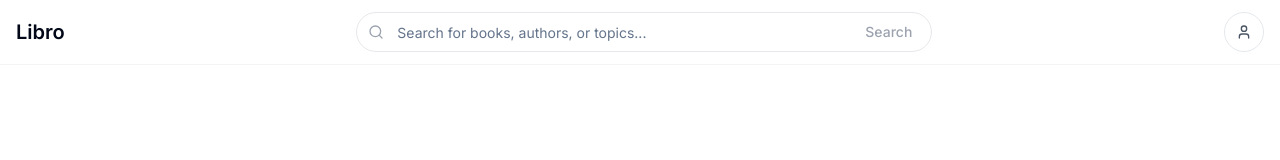
Scenario: TopBar › shows Login option in dropdown when user is not authenticated
What coordinates should you click on to do the following:
click the 2nd button
I would click on:
 (1244, 32)
Its box is x1=1224 y1=12 x2=1264 y2=52.
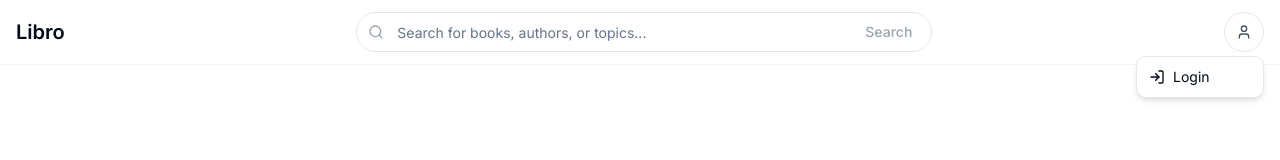
Result: the menu item "Login" is shown at x1=1149 y1=68 x2=1210 y2=85
